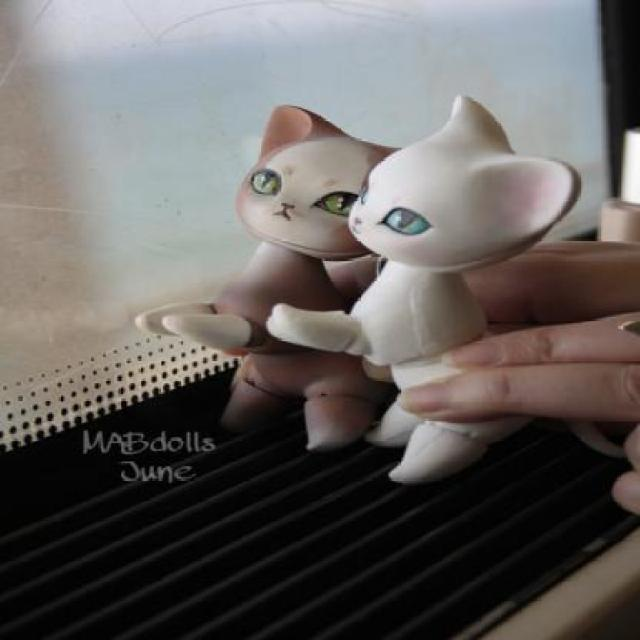Person: (320, 235, 638, 522)
